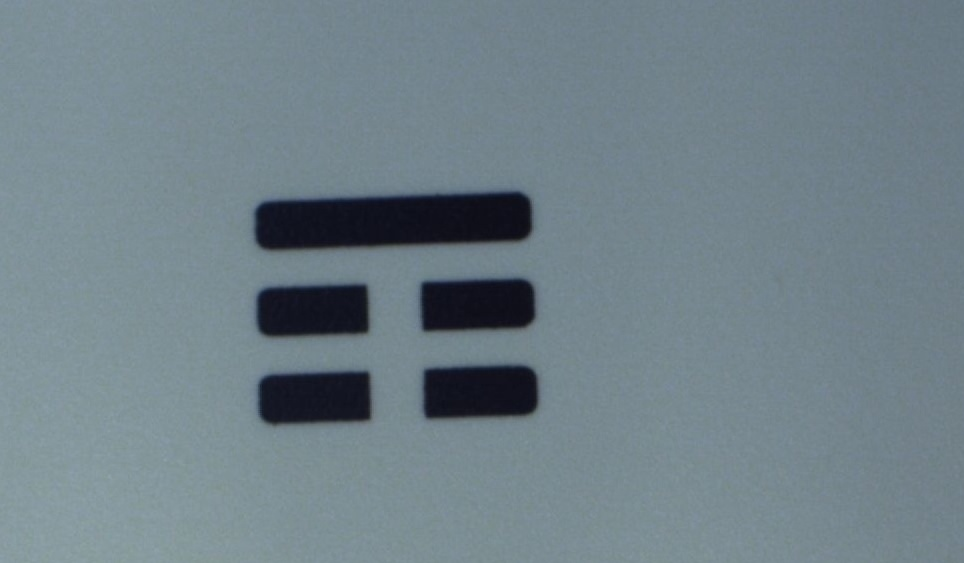BV_F6600PTIM: (225, 168, 549, 453)
